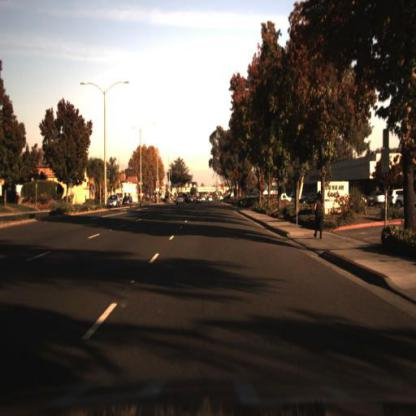car: (311, 186, 327, 245), (301, 190, 323, 213), (104, 190, 125, 210), (105, 194, 122, 212), (175, 191, 188, 207), (120, 196, 135, 209), (196, 194, 204, 208)
pedestrian: (311, 190, 329, 244)
